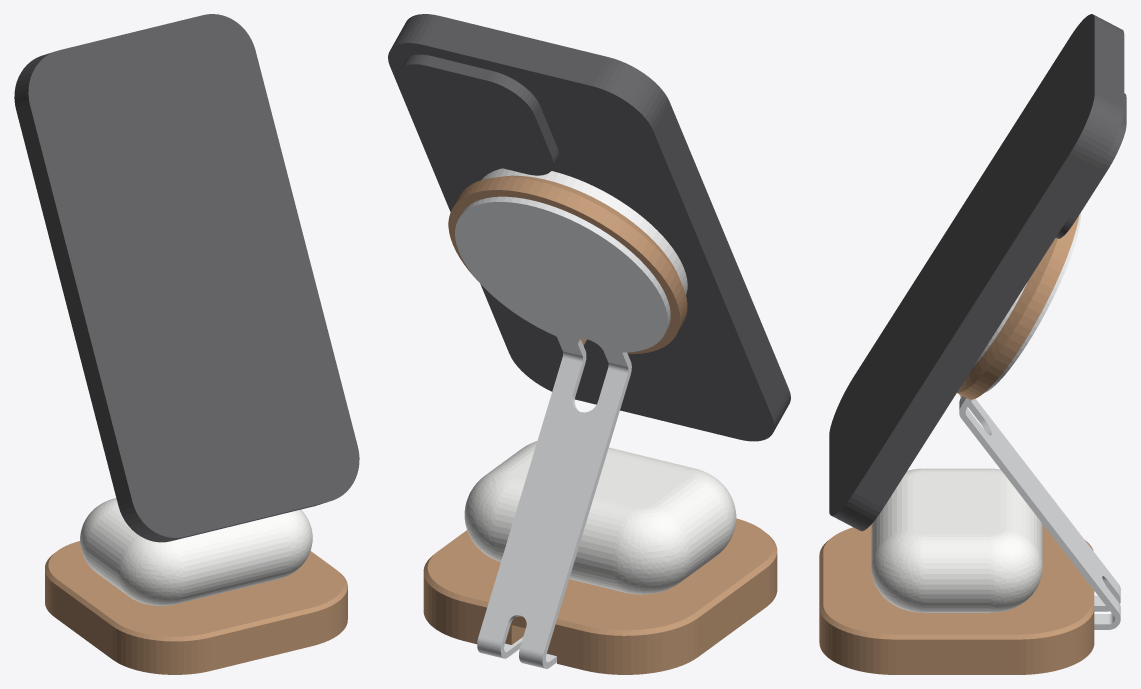
The picture shows the model from 3 angles, left to right: view 1: azimuth 30°, elevation 25°; view 2: azimuth 150°, elevation 25°; view 3: azimuth 270°, elevation 25°; orthographic projection. The views are drawn at different scales.
Parts seen in each view (by area): view 1: Iphone 15 pro:1, Wood Base:1, Airpods pro :1; view 2: Iphone 15 pro:1, Metal Base:1, Wood Base:1, Airpods pro :1, Phone charger panel:1, Magsafe Charger:1; view 3: Iphone 15 pro:1, Wood Base:1, Airpods pro :1, Metal Base:1, Phone charger panel:1.
Boxes of the visible parts, x1,y1,x2,y2 form: Iphone 15 pro:1: [14, 14, 359, 542]; Wood Base:1: [45, 541, 347, 674]; Airpods pro :1: [80, 498, 312, 605]; Iphone 15 pro:1: [388, 14, 790, 441]; Metal Base:1: [455, 196, 670, 668]; Wood Base:1: [423, 518, 777, 674]; Airpods pro :1: [464, 441, 736, 594]; Phone charger panel:1: [448, 175, 687, 353]; Magsafe Charger:1: [481, 168, 687, 294]; Iphone 15 pro:1: [829, 14, 1126, 531]; Wood Base:1: [819, 524, 1094, 674]; Airpods pro :1: [871, 468, 1042, 612]; Metal Base:1: [959, 213, 1120, 629]; Phone charger panel:1: [957, 215, 1079, 399].
Size of the model in its own units: 0.0725 by 0.163 by 0.081.
